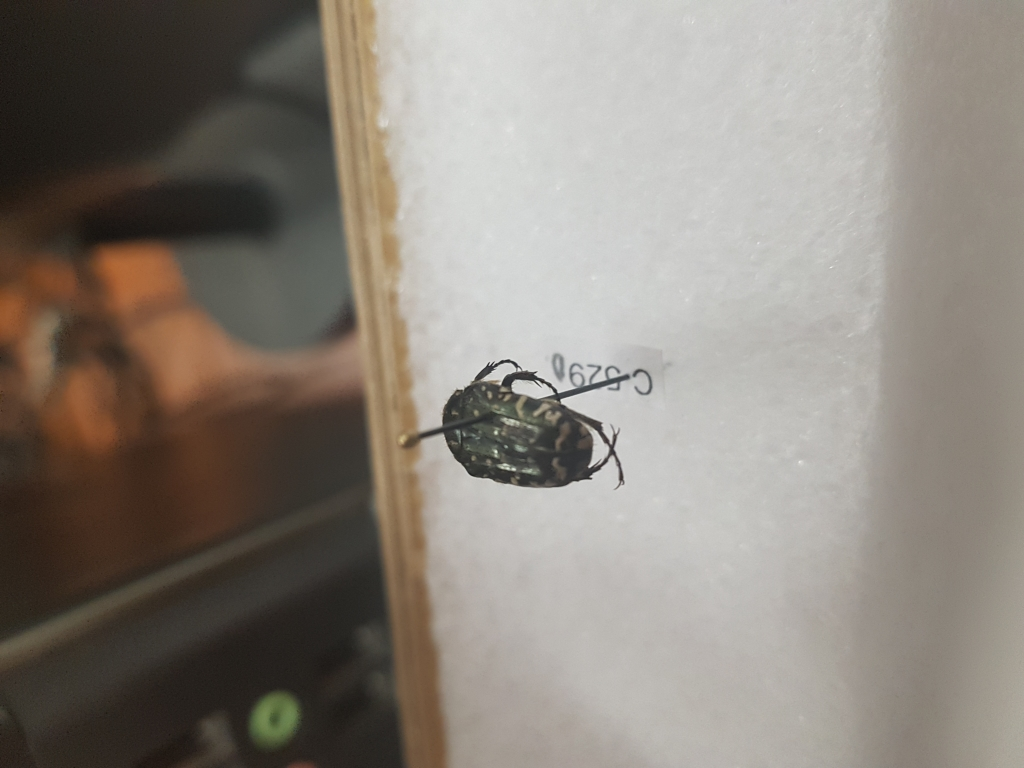Oxythyrea_funesta: (445, 350, 629, 495)
